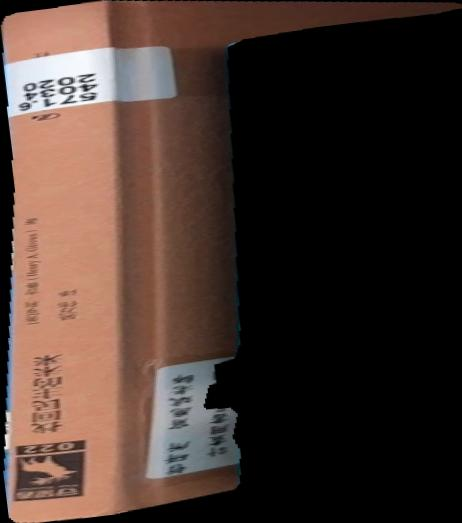reverse: (1, 1, 462, 523)
